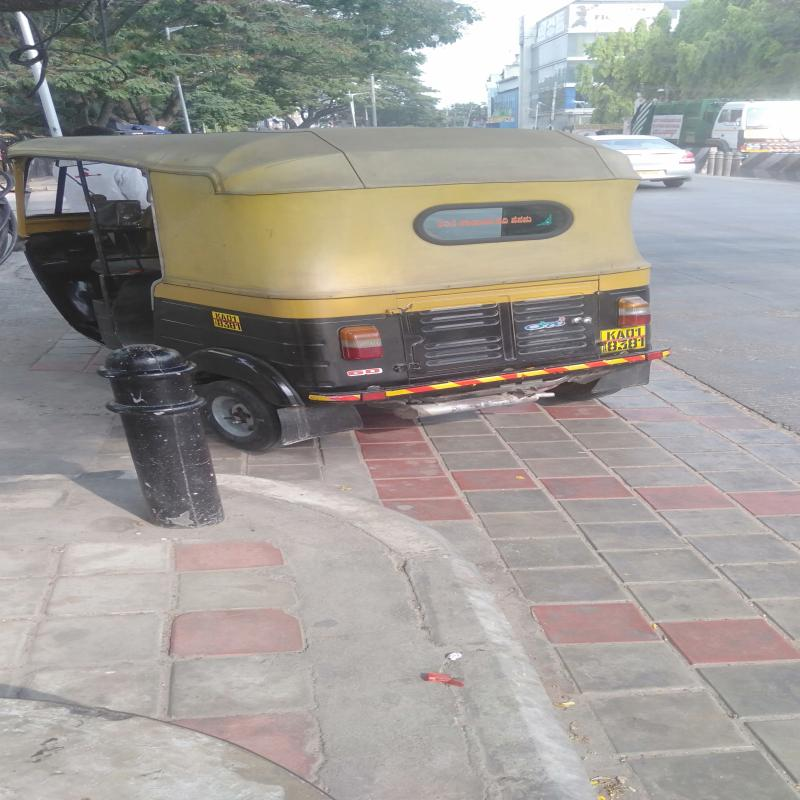auto: (0, 133, 688, 415)
